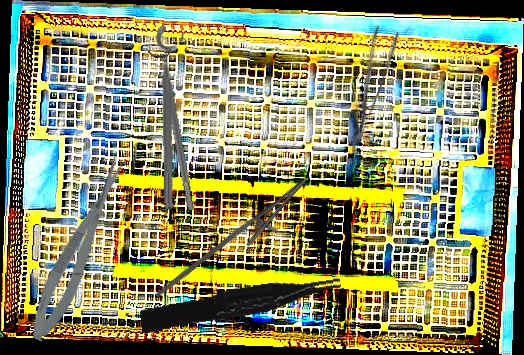Dressing Forceps: (334, 24, 403, 146)
Fixation Ring: (147, 46, 203, 213), (155, 23, 189, 211)
Micro Scissor: (20, 153, 138, 347)
Needle Holder: (153, 160, 319, 326)
Tissue Forceps: (138, 273, 344, 334)
